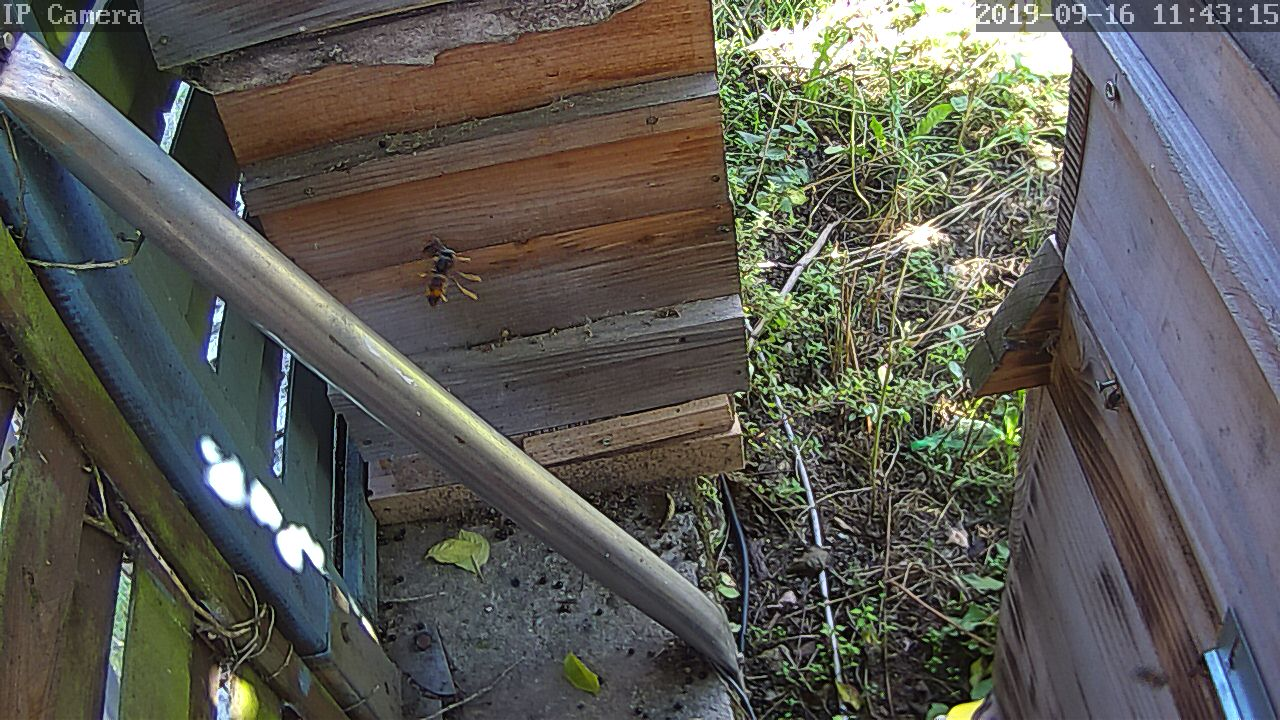bee: (1125, 660, 1171, 690), (1102, 382, 1137, 417)
hornet: (412, 236, 464, 305)
